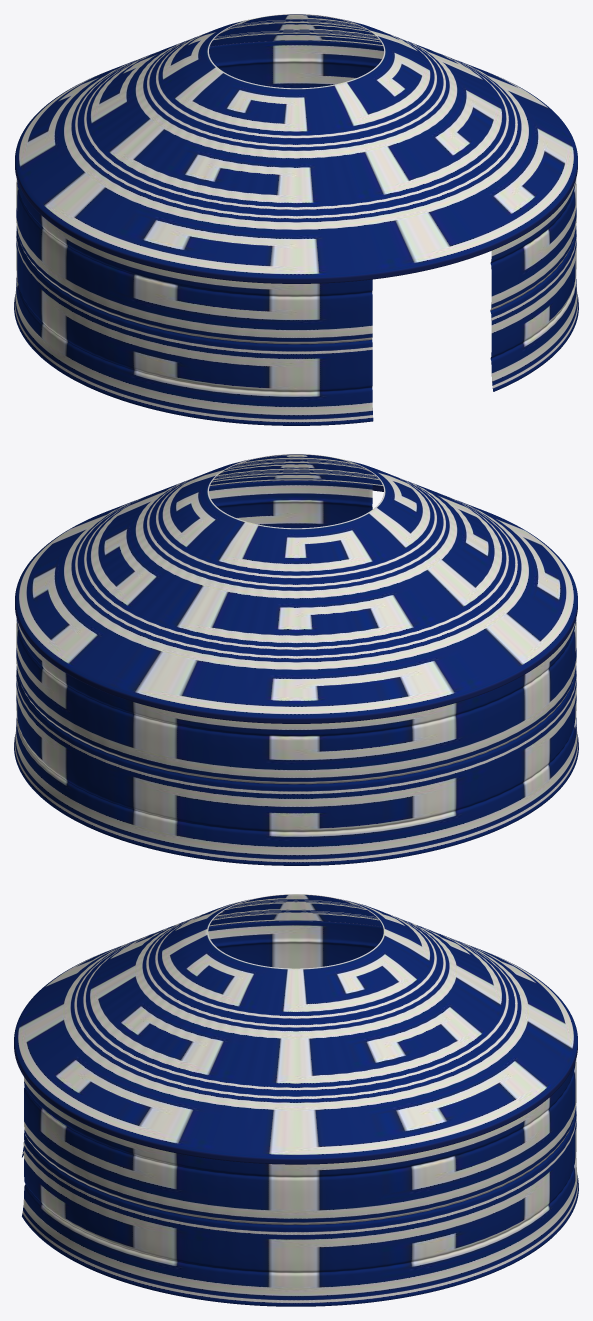
File: gadar.glb
The picture shows the model from 3 angles, top to bottom: view 1: azimuth 30°, elevation 25°; view 2: azimuth 150°, elevation 25°; view 3: azimuth 270°, elevation 25°; orthographic projection.
Visible parts, largest first — view 1: Gadar; view 2: Gadar; view 3: Gadar.
Boxes of the visible parts, left/top/right/bottom form: Gadar: left=14, top=14, right=578, bottom=425; Gadar: left=14, top=454, right=578, bottom=865; Gadar: left=14, top=894, right=578, bottom=1306.
Size of the model in its own units: 6.66 by 3.32 by 6.65.
2 materials, 2 textured.
